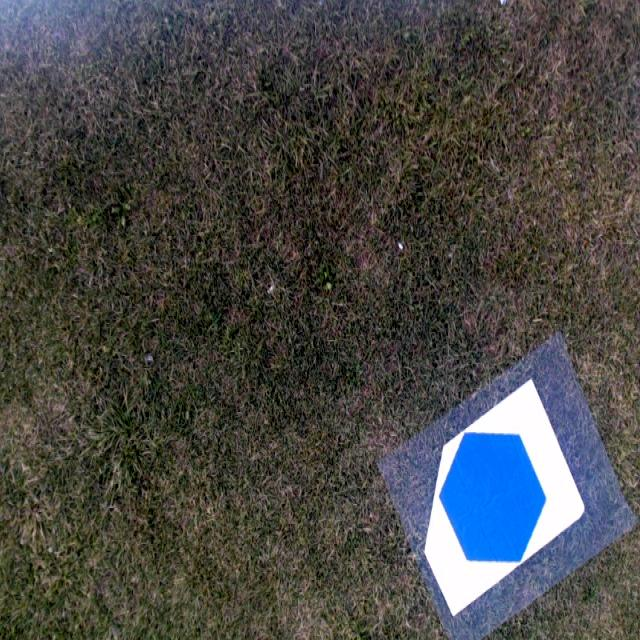blue_hexagon: (440, 433, 545, 563)
